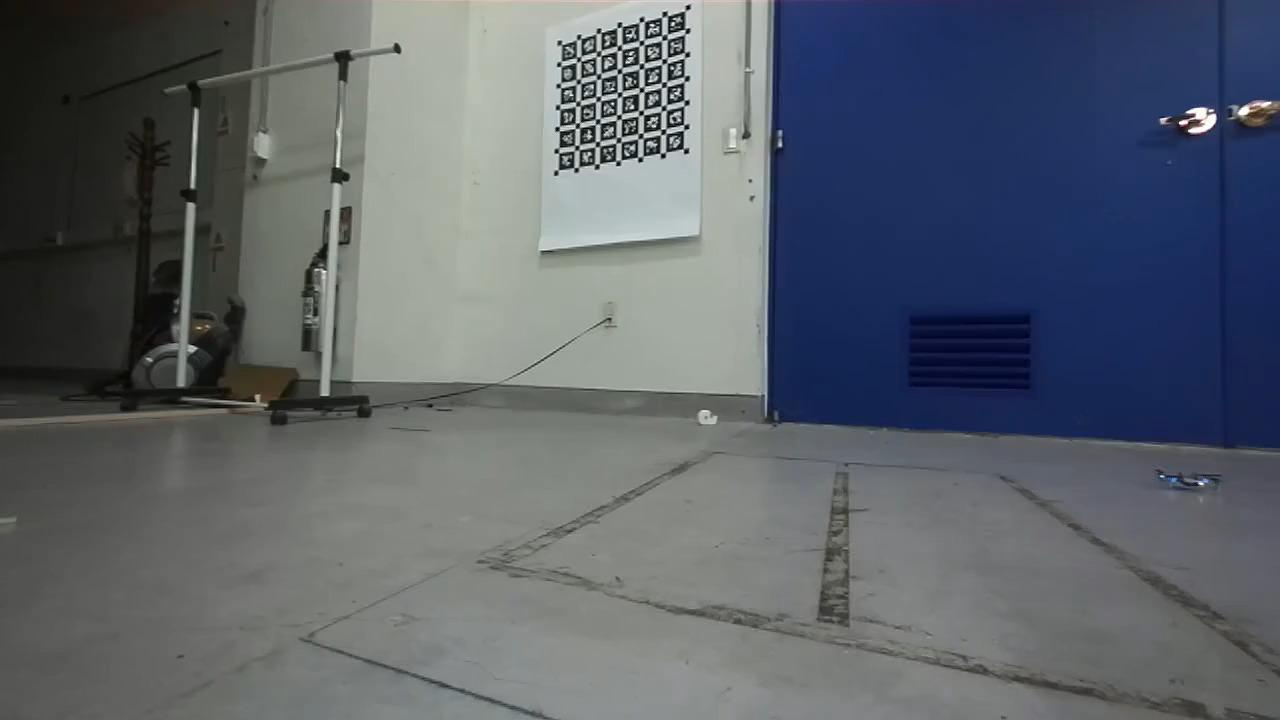crazyflie: (1151, 465, 1225, 498)
